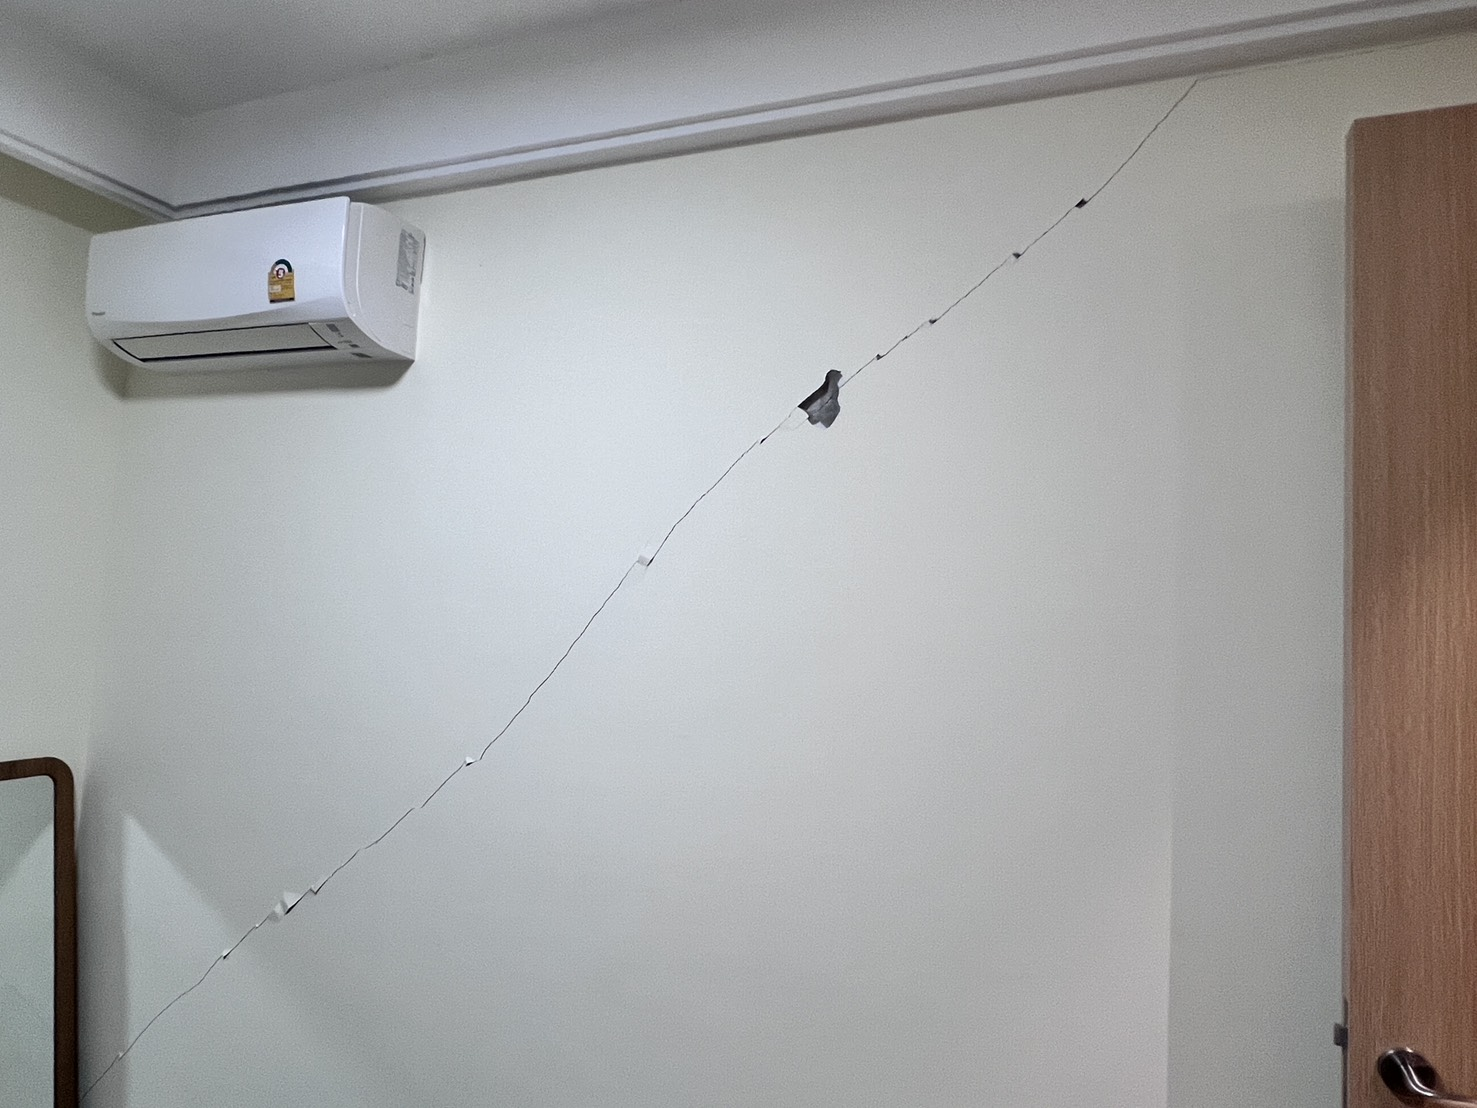High: (83, 372, 910, 1100)
